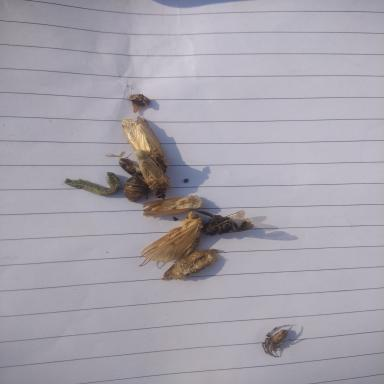abw: (138, 211, 205, 269), (116, 115, 174, 173), (130, 149, 170, 199), (140, 193, 205, 219)
